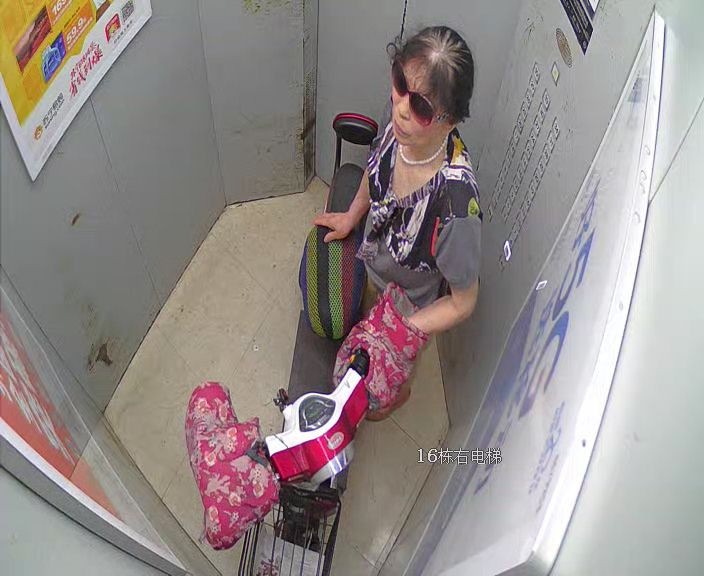Electric-bicycle: (190, 110, 394, 576)
